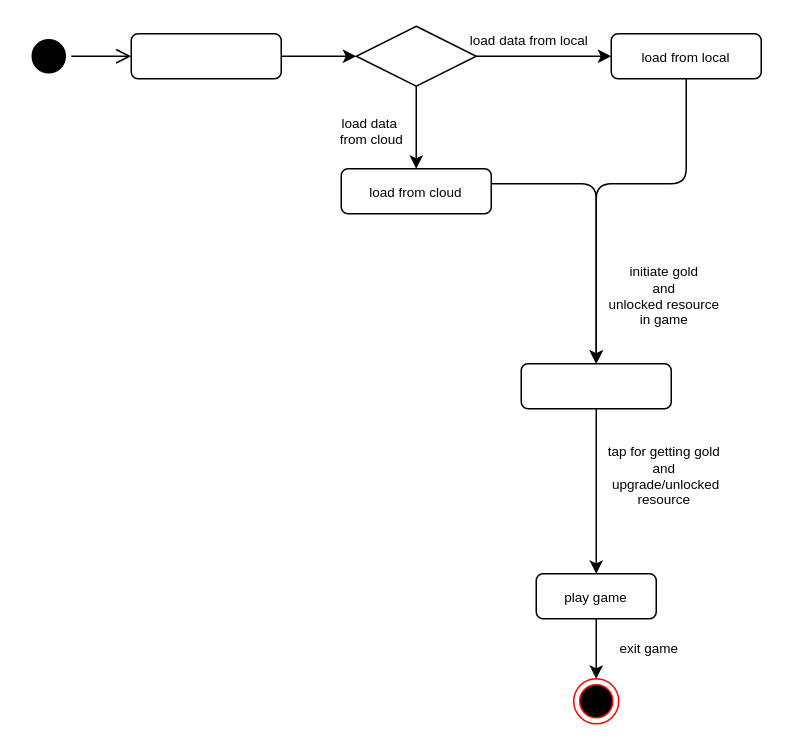
This 788x750 diagram has some shape labels left out. Here are the shapes that lost their labels. From the top down, the centre of each, then its label:
At [205,55]: "initiate button".
At [595,385]: "initiate game data".
